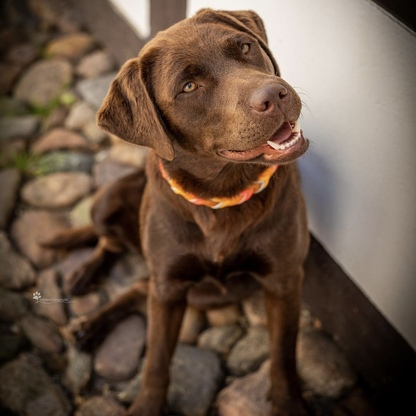labrado: (38, 7, 321, 416)
